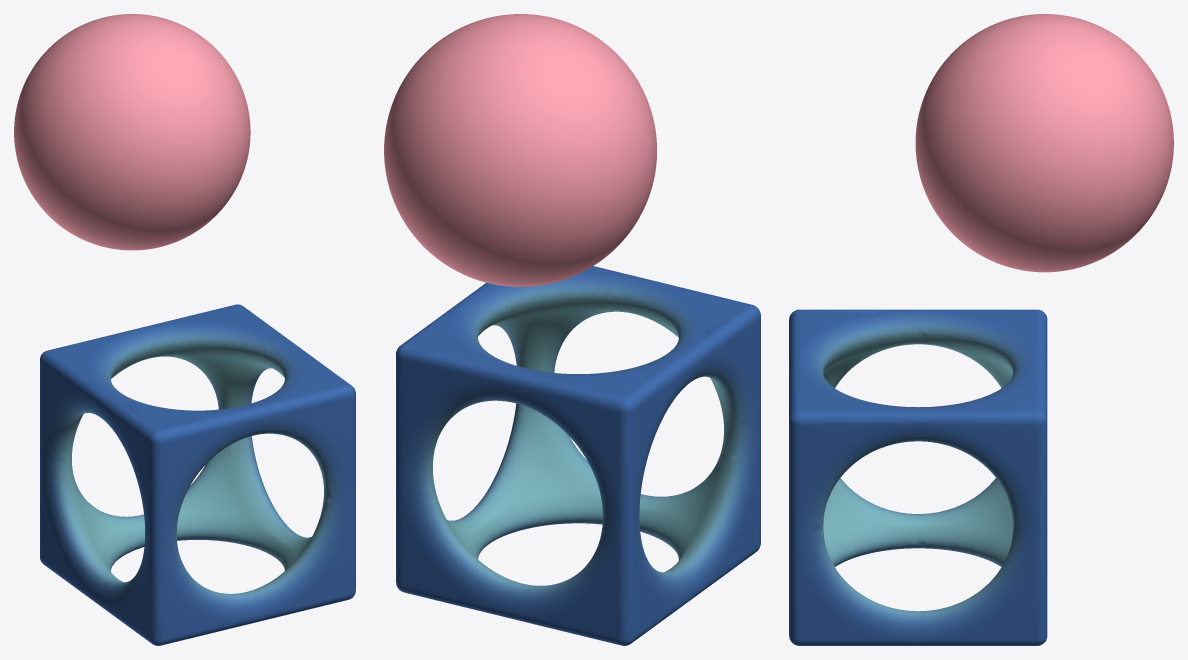
The picture shows the model from 3 angles, left to right: view 1: azimuth 30°, elevation 25°; view 2: azimuth 150°, elevation 25°; view 3: azimuth 270°, elevation 25°; orthographic projection. The views are drawn at different scales.
Parts seen in each view (by area): view 1: Area (1); view 2: Area (1); view 3: Area (1).
Boxes of the visible parts, box(x1,y1,x2,y2) form: Area (1): box(14, 14, 355, 645); Area (1): box(384, 14, 760, 645); Area (1): box(789, 14, 1173, 645).
Size of the model in its own units: 104 by 241 by 149.
Materials: 1 (1 with a texture image).
